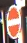No entry: (5, 5, 22, 38)
